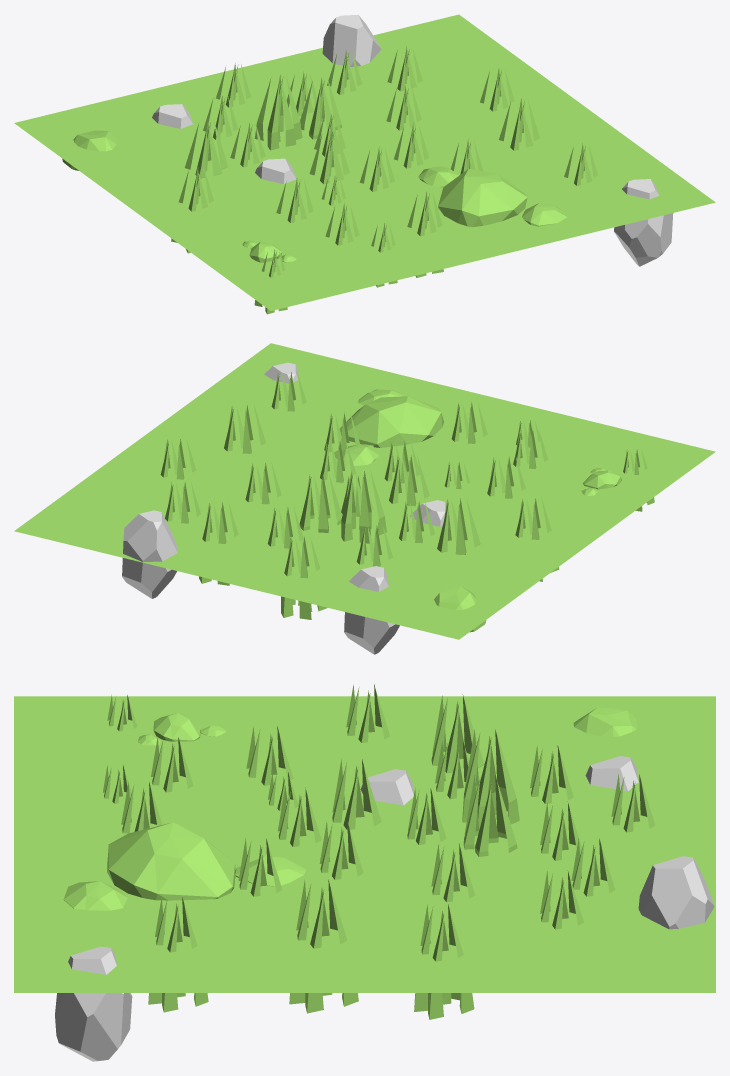
Rendered from grass-composition3.fbx.
3 views of the same model, one above another, from view 1: azimuth 30°, elevation 25°; view 2: azimuth 150°, elevation 25°; view 3: azimuth 270°, elevation 25° (orthographic). The views are drawn at different scales.
Visible parts, largest first — view 1: Plane, Bush1.2, Stone1.002, Stone1.003, Grass.023, Grass, Grass.024, Grass.003, Grass.022, Bush1.1, Stone1.1, Stone1.004 (+17 smaller); view 2: Plane, Bush1.2, Stone1.003, Stone1.004, Grass.023, Grass, Grass.010, Grass.024, Grass.003, Grass.022, Bush1.1, Grass.020 (+17 smaller); view 3: Plane, Bush1.2, Stone1.002, Stone1.003, Grass.023, Grass, Grass.022, Grass.004, Grass.024, Grass.003, Grass.001, Bush1.003 (+18 smaller).
Part boxes in pixels (x1=…): Plane: x1=14, y1=14, x2=715, y2=310; Bush1.2: x1=418, y1=166, x2=567, y2=227; Stone1.002: x1=614, y1=179, x2=673, y2=266; Stone1.003: x1=322, y1=15, x2=380, y2=66; Grass.023: x1=254, y1=75, x2=302, y2=150; Grass: x1=300, y1=77, x2=342, y2=139; Grass.024: x1=184, y1=119, x2=227, y2=178; Grass.003: x1=309, y1=130, x2=349, y2=184; Grass.022: x1=499, y1=98, x2=539, y2=150; Bush1.1: x1=62, y1=130, x2=116, y2=170; Stone1.1: x1=255, y1=158, x2=296, y2=184; Stone1.004: x1=152, y1=104, x2=192, y2=128; Plane: x1=14, y1=343, x2=715, y2=639; Bush1.2: x1=334, y1=389, x2=443, y2=466; Stone1.003: x1=122, y1=510, x2=177, y2=598; Stone1.004: x1=344, y1=566, x2=399, y2=654; Grass.023: x1=341, y1=470, x2=386, y2=543; Grass: x1=299, y1=473, x2=342, y2=532; Grass.010: x1=281, y1=536, x2=327, y2=619; Grass.024: x1=437, y1=498, x2=480, y2=554; Grass.003: x1=389, y1=455, x2=429, y2=506; Grass.022: x1=224, y1=404, x2=265, y2=453; Bush1.1: x1=434, y1=586, x2=486, y2=632; Grass.020: x1=199, y1=502, x2=238, y2=585; Plane: x1=14, y1=696, x2=715, y2=992; Bush1.2: x1=63, y1=822, x2=305, y2=910; Stone1.002: x1=55, y1=946, x2=132, y2=1061; Stone1.003: x1=638, y1=856, x2=714, y2=929; Grass.023: x1=462, y1=729, x2=519, y2=829; Grass: x1=463, y1=775, x2=517, y2=857; Grass.022: x1=289, y1=879, x2=358, y2=1013; Grass.004: x1=414, y1=904, x2=474, y2=1019; Grass.024: x1=431, y1=694, x2=484, y2=773; Grass.003: x1=332, y1=759, x2=381, y2=830; Grass.001: x1=148, y1=897, x2=208, y2=1012; Bush1.003: x1=137, y1=713, x2=226, y2=745.
Bounding box in the file's own units: 200 × 58.59 × 200.
